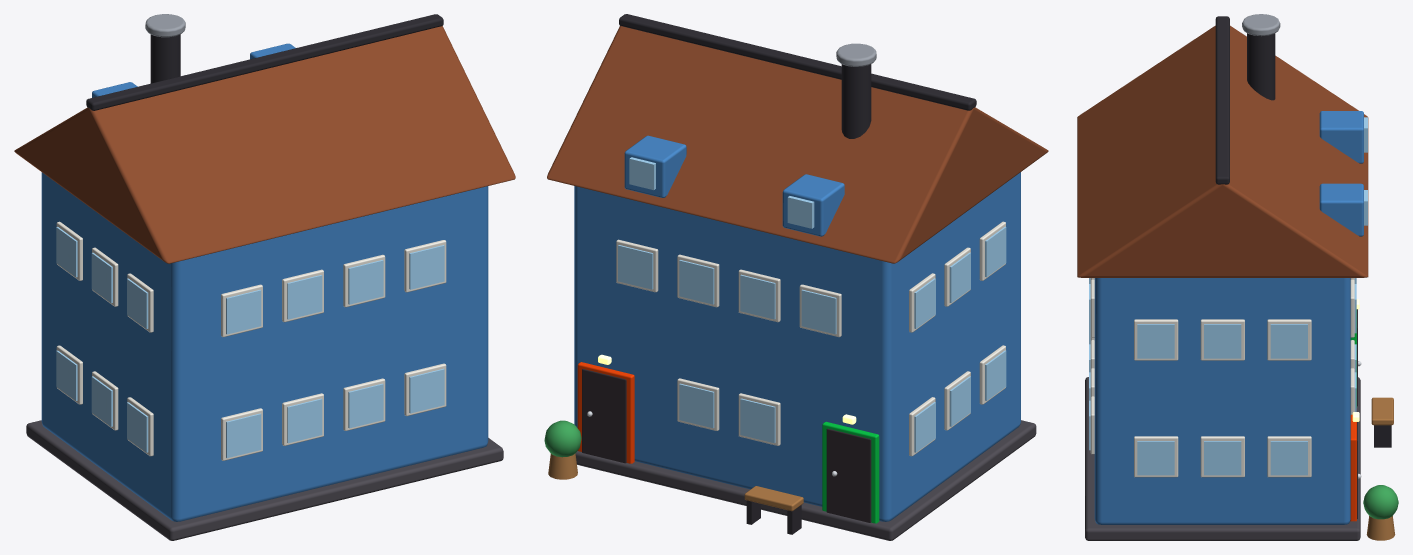
Rendered from building_living_quarters_t2.glb.
The picture shows the model from 3 angles, left to right: view 1: azimuth 30°, elevation 25°; view 2: azimuth 150°, elevation 25°; view 3: azimuth 270°, elevation 25°; orthographic projection. The views are drawn at different scales.
Visible parts, largest first — view 1: Walls, Roof.Gable, Plinth, Roof.Ridge, Chimney.Stack, WinB0.Pane, WinB0.Pane.002, WinB1.Pane.002, WinB0.Pane.001, WinB0.Pane.003, WinB1.Pane.001, WinB1.Pane (+16 smaller); view 2: Walls, Roof.Gable, Plinth, Roof.Ridge, Entry.Leaf, Exit.Leaf, Dormer0, Dormer1, Chimney.Stack, Entry.Frame, Exit.Frame, Win0.Pane (+24 smaller); view 3: Roof.Gable, Walls, Plinth, Roof.Ridge, Dormer1, Dormer0, Chimney.Stack, WinR0.Pane, WinR1.Pane, WinR1.Pane.001, WinR1.Pane.002, WinR0.Pane.001 (+13 smaller).
Boxes of the visible parts, <box> form: Walls: <box>41,172,488,521</box>; Roof.Gable: <box>14,26,515,263</box>; Plinth: <box>26,420,503,540</box>; Roof.Ridge: <box>86,14,443,110</box>; Chimney.Stack: <box>150,34,180,83</box>; WinB0.Pane: <box>226,413,261,458</box>; WinB0.Pane.002: <box>348,383,383,428</box>; WinB1.Pane.002: <box>348,260,383,304</box>; WinB0.Pane.001: <box>287,398,322,443</box>; WinB0.Pane.003: <box>409,368,444,413</box>; WinB1.Pane.001: <box>287,275,322,319</box>; WinB1.Pane: <box>226,290,261,334</box>; Walls: <box>574,172,1020,521</box>; Roof.Gable: <box>547,26,1048,263</box>; Plinth: <box>575,420,1036,540</box>; Roof.Ridge: <box>619,14,976,110</box>; Entry.Leaf: <box>826,428,871,522</box>; Exit.Leaf: <box>582,369,626,463</box>; Dormer0: <box>782,174,844,236</box>; Dormer1: <box>624,135,686,197</box>; Chimney.Stack: <box>841,64,871,138</box>; Entry.Frame: <box>822,421,879,523</box>; Exit.Frame: <box>577,362,634,463</box>; Win0.Pane: <box>740,398,775,443</box>; Roof.Gable: <box>1077,25,1368,277</box>; Walls: <box>1094,278,1350,524</box>; Plinth: <box>1085,377,1360,540</box>; Roof.Ridge: <box>1215,16,1229,184</box>; Dormer1: <box>1319,183,1363,236</box>; Dormer0: <box>1319,111,1363,163</box>; Chimney.Stack: <box>1247,33,1275,100</box>; WinR0.Pane: <box>1137,441,1174,475</box>; WinR1.Pane: <box>1137,324,1174,358</box>; WinR1.Pane.001: <box>1204,324,1241,358</box>; WinR1.Pane.002: <box>1270,324,1307,358</box>; WinR0.Pane.001: <box>1204,441,1241,475</box>.
Size of the model in its own units: 4.32 by 5.06 by 3.62.
